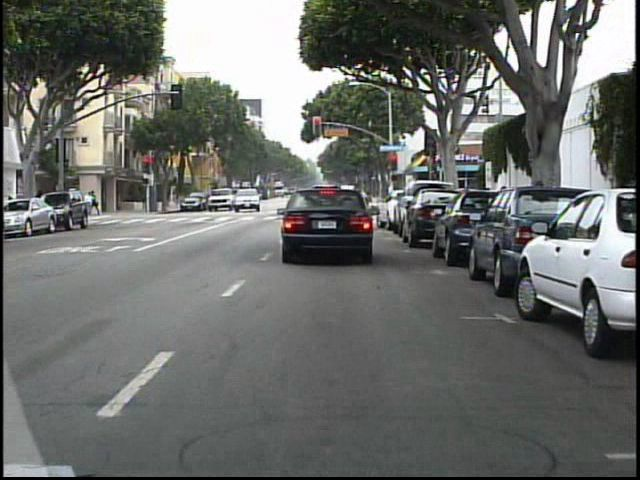person: (94, 187, 106, 219), (85, 190, 97, 217)
